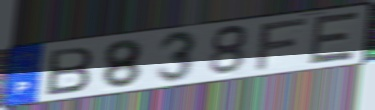3: (155, 29, 199, 86)
8: (99, 37, 145, 90), (206, 24, 251, 78)
B: (44, 45, 96, 98)
E: (306, 9, 362, 67)
F: (252, 15, 312, 73)
